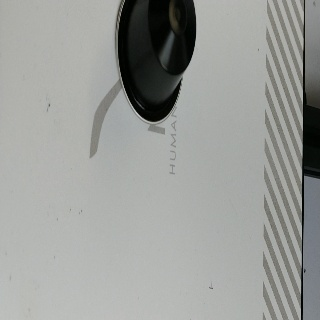capsule_10: (114, 1, 197, 125)
